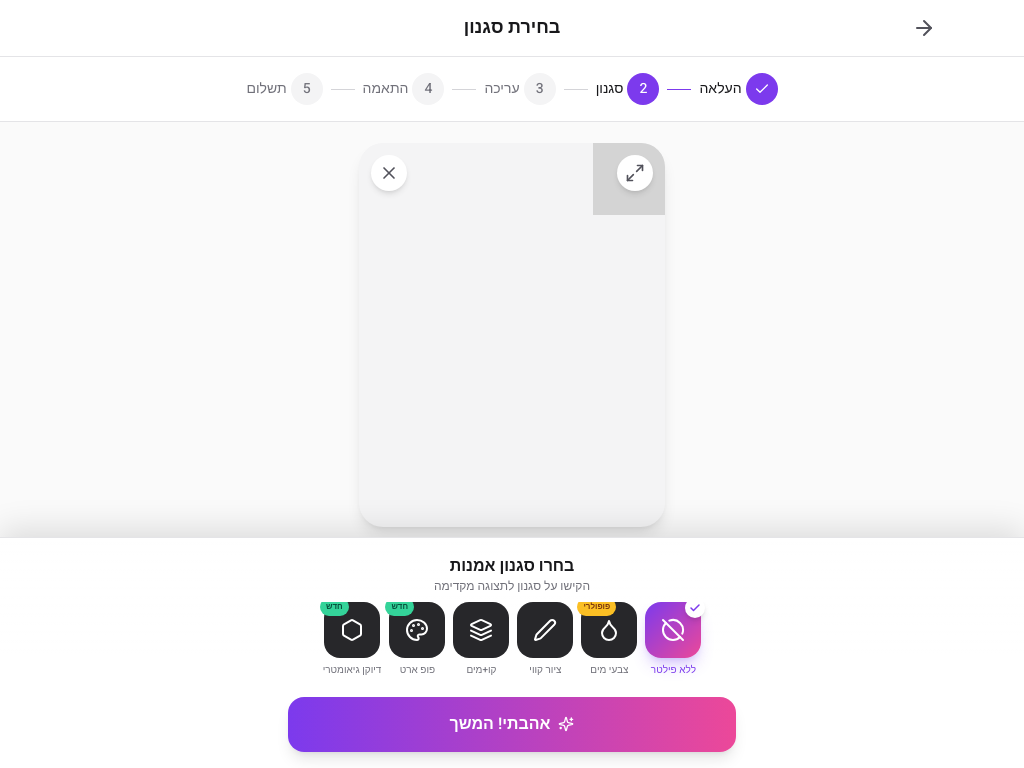
Test case: StylePage › AI Transform Integration › clears previous error when retrying
Click the button "פופולרי צבעי מים" at (609, 640), box [581,602,637,677]
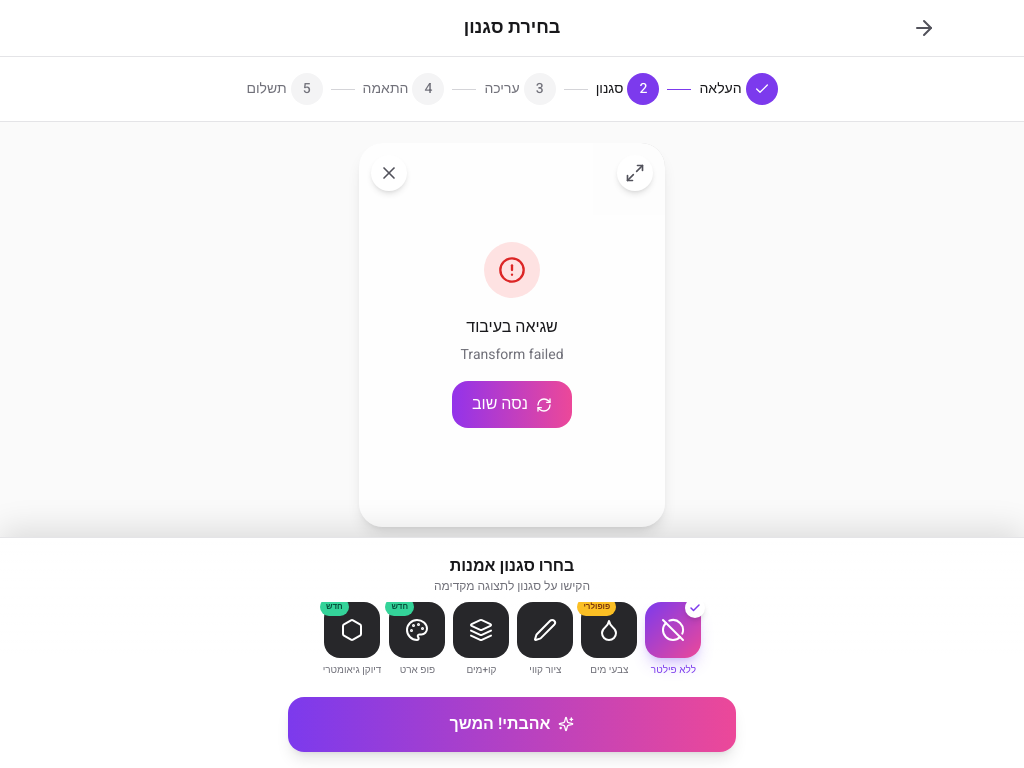
expect the element with test id "transform-error" is shown: met, box [359,143,665,527]
Click the button "נסה שוב" at (512, 405), box [452,381,572,428]
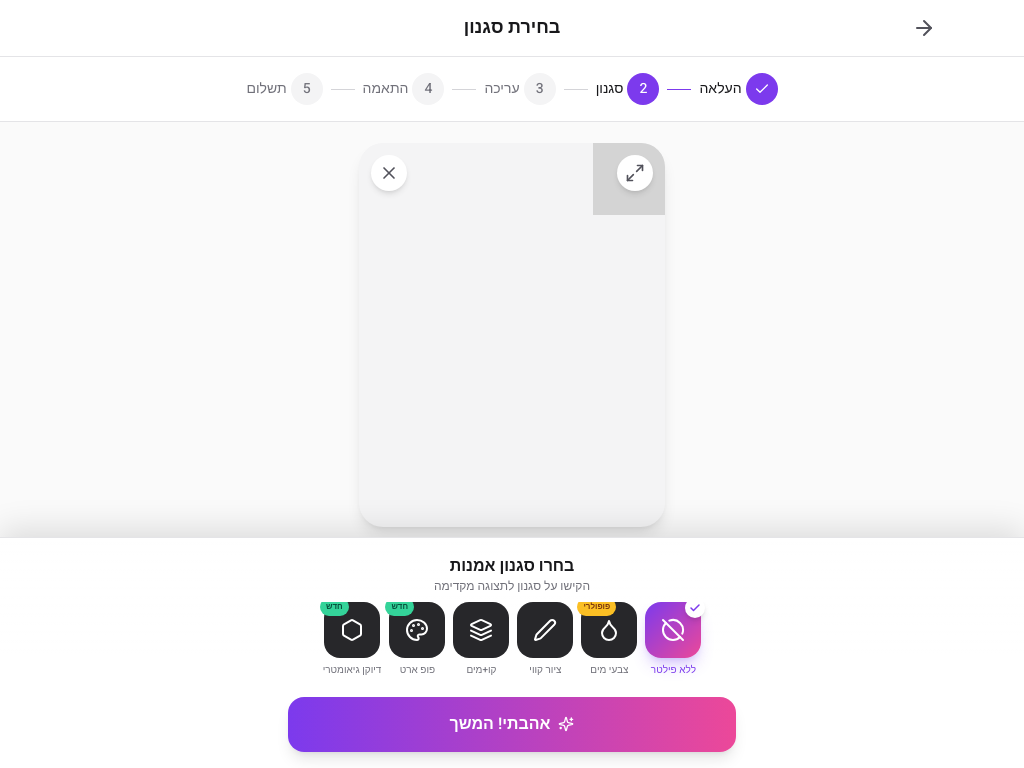
expect the element with test id "transform-error" is gone: met
